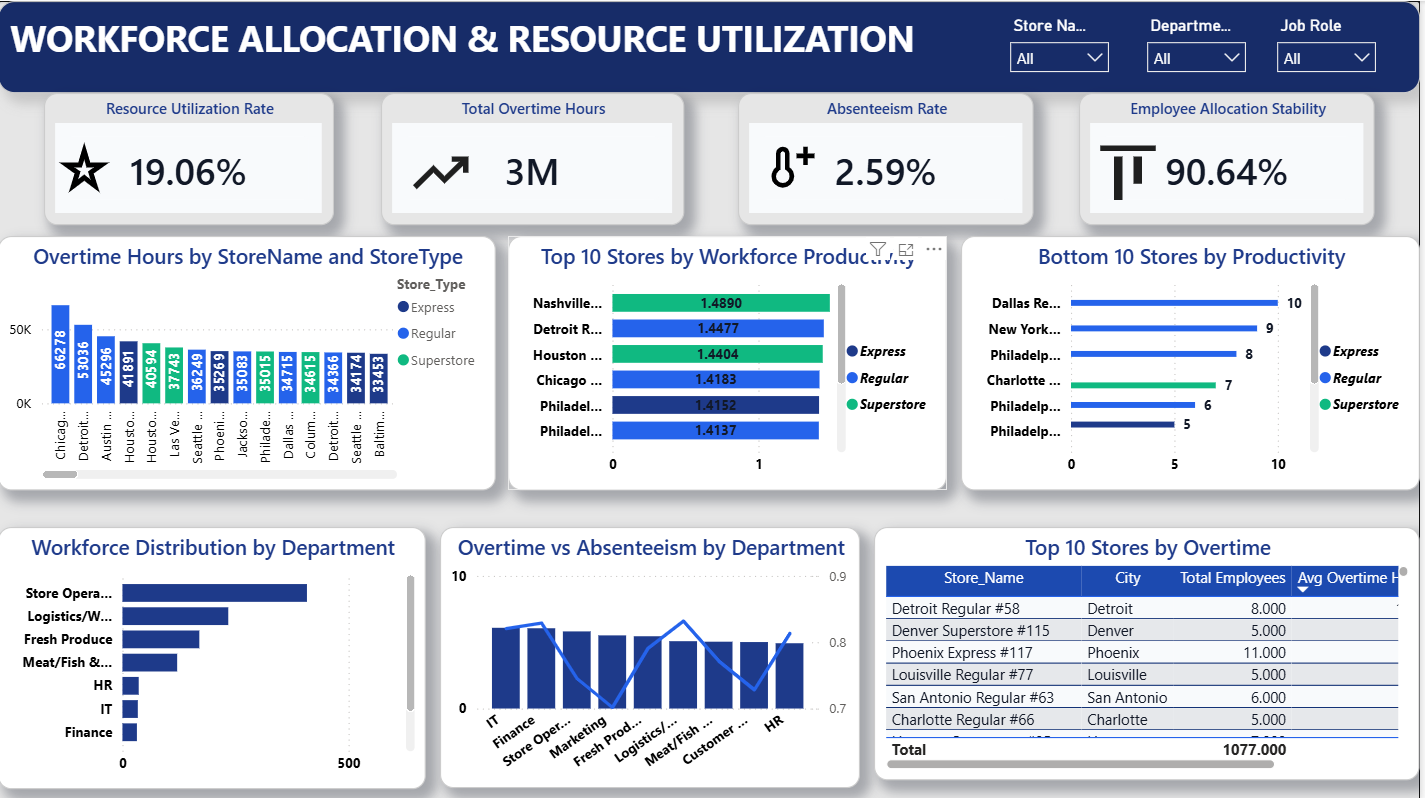

Layout of this report page (visuals, bound fields, positions):
{"tool":"powerbi","page":{"name":"WORKFORCE ALLOCATION ANALYSIS","canvas":[1280,720],"ordinal":3},"visuals":[{"type":"textbox","box":[0,0,1279.8,82.8],"z":0},{"type":"cardVisual","title":"Resource Utilization Rate","fields":{"Data":["Dim_Date.Resource Utilization Rate"]},"box":[41.8,82.7,260.7,118.7],"z":1000},{"type":"cardVisual","title":"Total Overtime Hours","fields":{"Data":["Dim_Date.Total Overtime Hours"]},"box":[344.7,82.8,272.7,118.8],"z":2000},{"type":"cardVisual","title":"Absenteeism Rate","fields":{"Data":["Dim_Date.Absenteeism Rate"]},"box":[666,82.8,266.4,118.8],"z":3000},{"type":"columnChart","title":"Overtime Hours by StoreName and StoreType","fields":{"Category":["Dim_Store.Store_Name"],"Y":["Dim_Date.Total Overtime Hours"],"Series":["Dim_Store.Store_Type"]},"box":[0,211.5,448.2,228.6],"z":4000},{"type":"barChart","title":"Top 10 Stores by Workforce Productivity","fields":{"Category":["Dim_Store.Store_Name"],"Y":["Dim_Date.Workforce Productivity Index"],"Series":["Dim_Store.Store_Type"]},"box":[459,211.5,395.1,228.6],"z":5000},{"type":"cardVisual","title":"Employee Allocation Stability","fields":{"Data":["Dim_Date.Employee Allocation Stability"]},"box":[972.9,82.8,266.4,118.8],"z":6000},{"type":"image","box":[48.6,125.1,58.5,54],"z":7000},{"type":"image","box":[365.4,125.1,65.7,59.4],"z":8000},{"type":"image","box":[684,125.1,61.2,48.6],"z":9000},{"type":"image","box":[981,125.1,72,59.4],"z":10000},{"type":"clusteredBarChart","title":"Workforce Distribution by Department","fields":{"Category":["Dim_Employee.Department"],"Y":["Dim_Date.Total Employees"]},"box":[0,473.4,385.2,235.8],"z":11000},{"type":"lineClusteredColumnComboChart","title":"Overtime vs Absenteeism by Department","fields":{"Category":["Dim_Employee.Department"],"Y":["Dim_Date.Avg Overtime Hours"],"Y2":["Dim_Date.Avg Absenteeism"]},"box":[397.8,473.7,378.4,235.4],"z":12000},{"type":"tableEx","title":"Top 10 Stores by Overtime","fields":{"Values":["Dim_Store.Store_Name","Dim_Store.City","Dim_Date.Total Employees","Dim_Date.Avg Overtime Hours","Dim_Date.Avg Absenteeism"]},"box":[788.4,473.4,491.4,227.7],"z":13000},{"type":"slicer","fields":{"Values":["Dim_Store.Store_Name"]},"box":[900.9,9,108.9,63.9],"z":14000},{"type":"slicer","fields":{"Values":["Dim_Employee.Job_Role"]},"box":[1141.2,9,108.9,63.9],"z":15000},{"type":"slicer","fields":{"Values":["Dim_Employee.Department"]},"box":[1024.2,9,108.9,63.9],"z":16000},{"type":"clusteredBarChart","title":"Bottom 10 Stores by Productivity","fields":{"Series":["Dim_Store.Store_Type"],"Category":["Dim_Store.Store_Name"],"Y":["Dim_Date.Productivity Rank"]},"box":[866.7,211.5,413.1,228.6],"z":17000}]}

Visuals, with their boxes in screenshot pixels (x1, y1, x2, y2), scaled from the page's 1280x720 canvas onto the 1425x798 screenshot:
textbox: 0 0 1424 92
"Resource Utilization Rate" cardVisual: 47 92 337 223
"Total Overtime Hours" cardVisual: 384 92 687 223
"Absenteeism Rate" cardVisual: 741 92 1038 223
"Overtime Hours by StoreName and StoreType" columnChart: 0 234 499 488
"Top 10 Stores by Workforce Productivity" barChart: 511 234 951 488
"Employee Allocation Stability" cardVisual: 1083 92 1380 223
image: 54 139 119 199
image: 407 139 480 204
image: 761 139 830 193
image: 1092 139 1172 204
"Workforce Distribution by Department" clusteredBarChart: 0 525 429 786
"Overtime vs Absenteeism by Department" lineClusteredColumnComboChart: 443 525 864 786
"Top 10 Stores by Overtime" tableEx: 878 525 1424 777
slicer - Dim_Store.Store_Name: 1003 10 1124 81
slicer - Dim_Employee.Job_Role: 1270 10 1392 81
slicer - Dim_Employee.Department: 1140 10 1261 81
"Bottom 10 Stores by Productivity" clusteredBarChart: 965 234 1424 488
